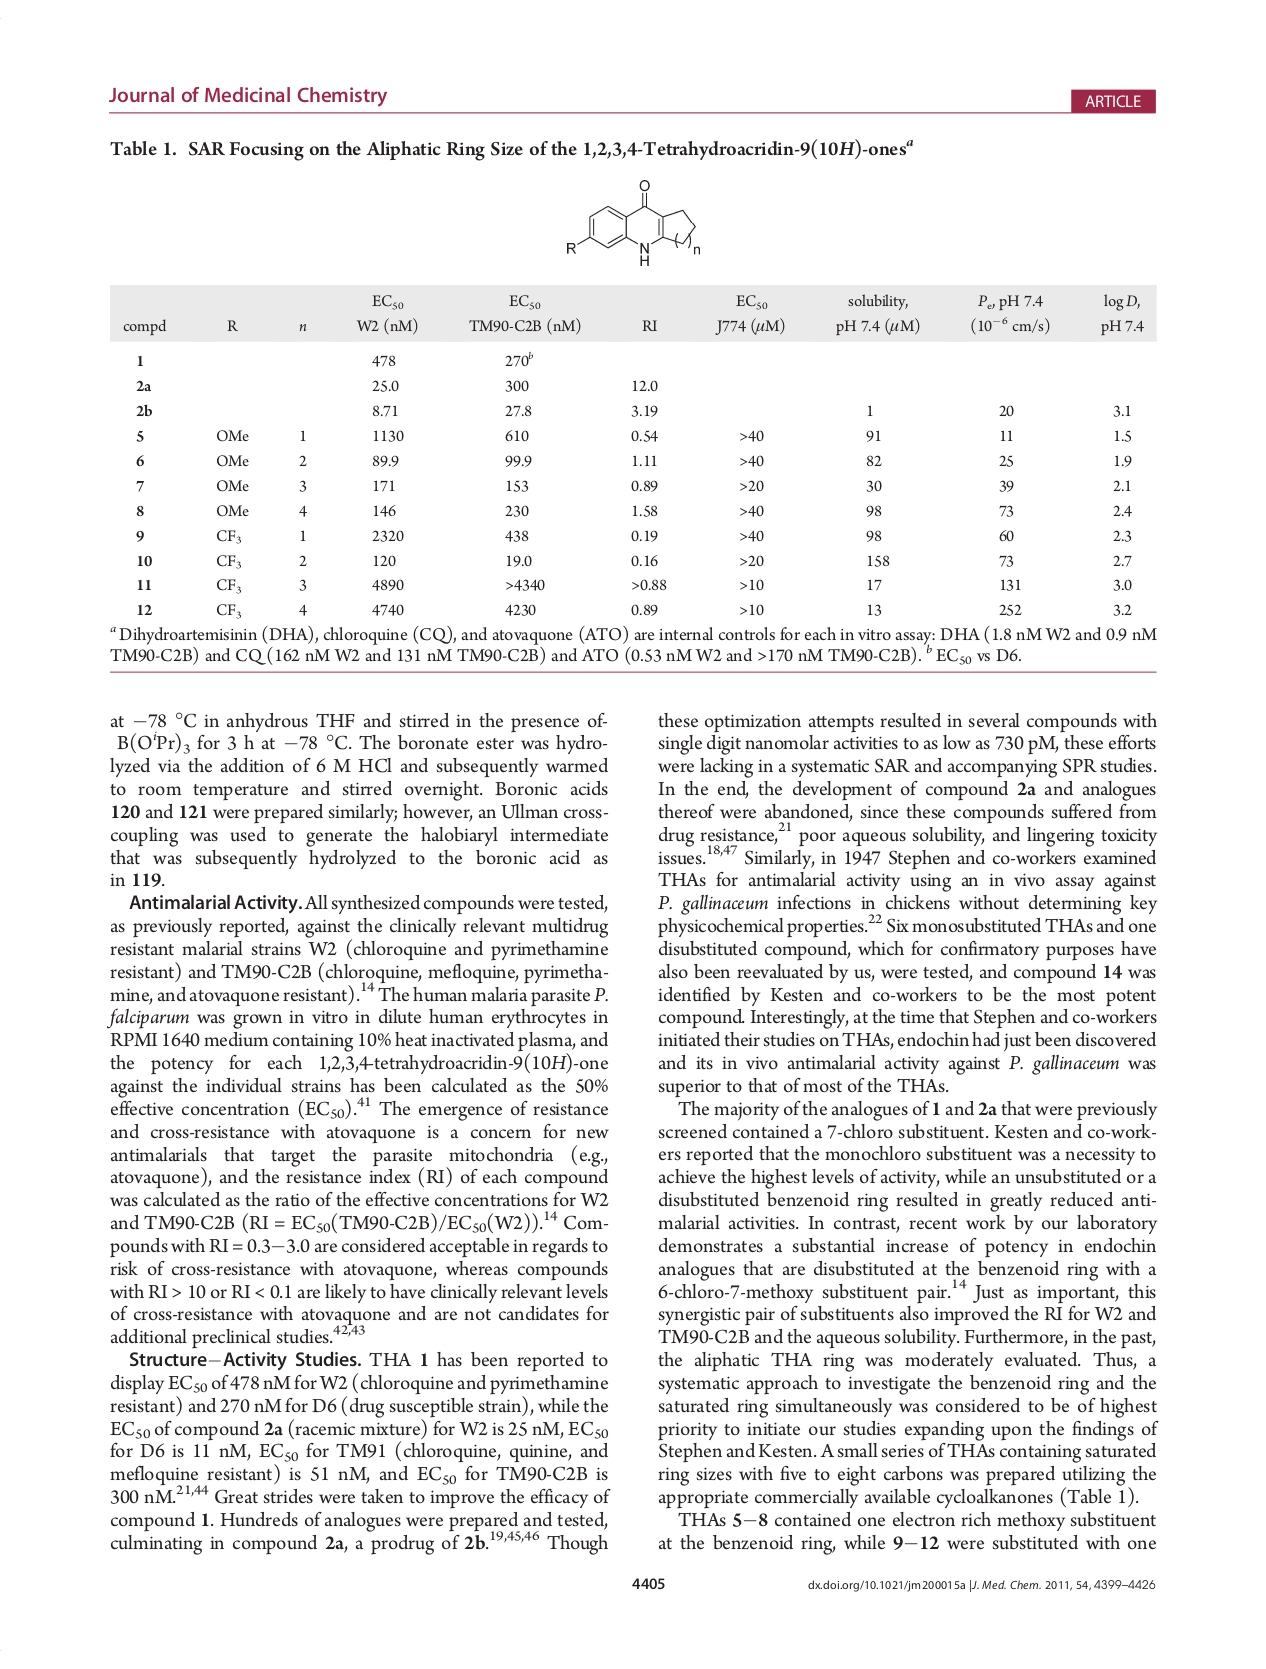exist_molecular: (556, 172, 707, 273)
